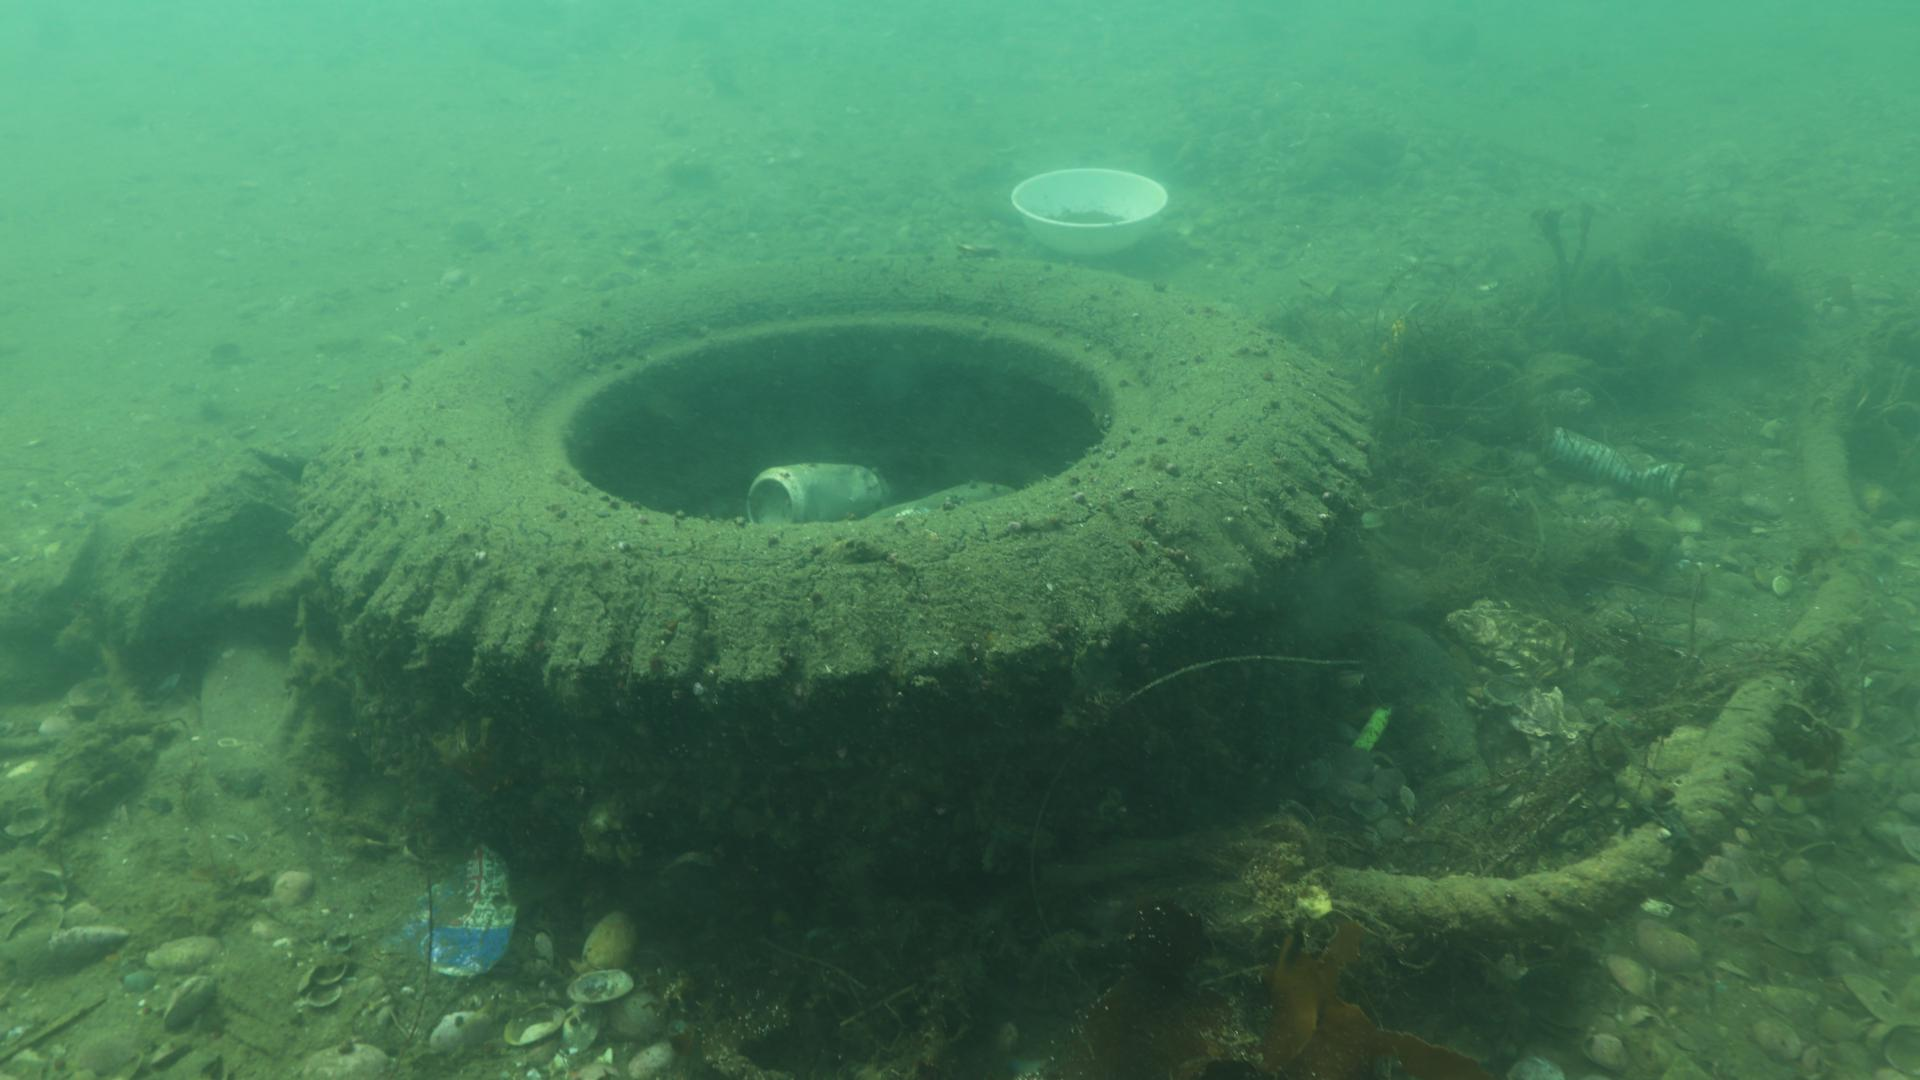rope: (1327, 382, 1920, 948)
tire: (293, 251, 1375, 876)
